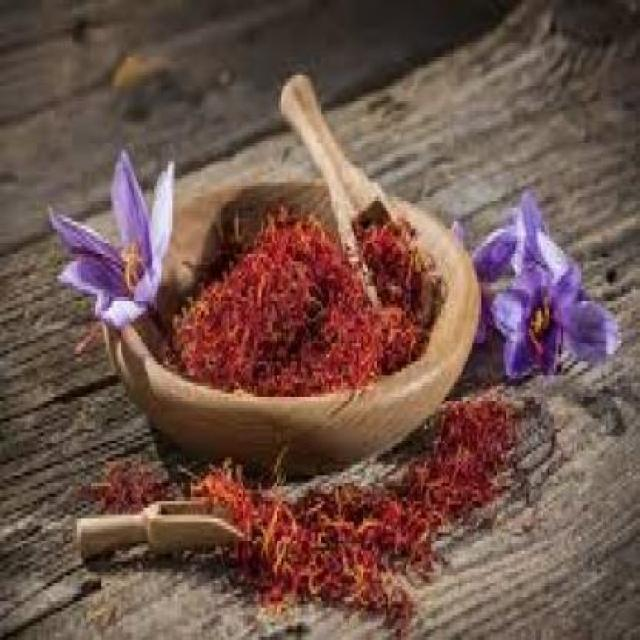saffron open: (52, 149, 173, 332), (492, 261, 616, 378)
